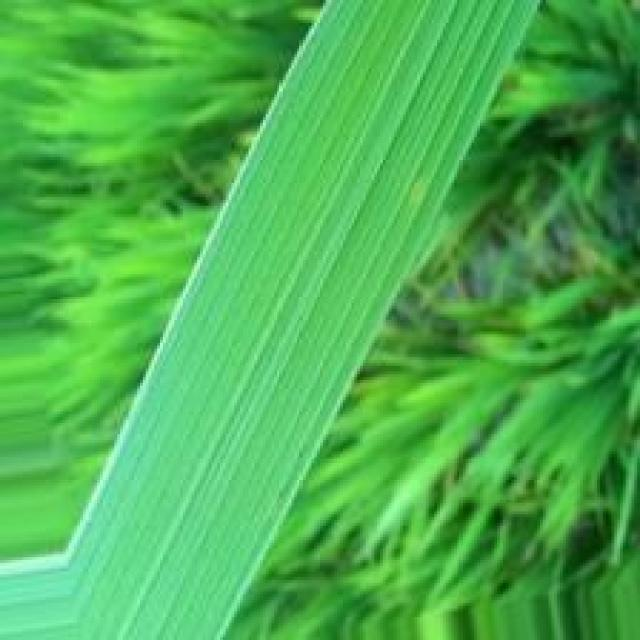HealthyLeaf: (80, 2, 530, 636)
